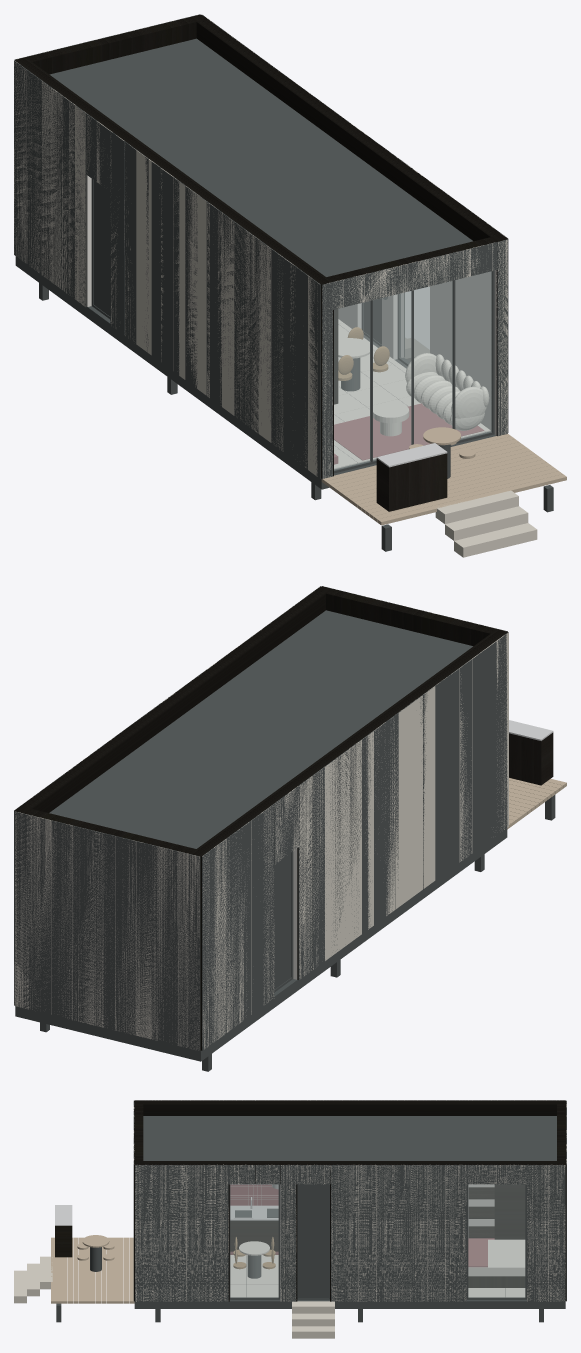
The model's file is solum-studio.glb.
3 renders of one model, top to bottom at view 1: azimuth 30°, elevation 25°; view 2: azimuth 150°, elevation 25°; view 3: azimuth 270°, elevation 25°, orthographic. The views are drawn at different scales.
Visible parts, largest first — view 1: roof|0600|Roof, glazing|0637|D01, parapet|0114|Raised seamless parapet, wall|0104|east, concrete-cladding|0584|Smooth facade panel, concrete-cladding|0577|Smooth facade panel, concrete-cladding|0586|Smooth facade panel, parapet|0433|Raised seamless parapet, base|0001|Floor, concrete-cladding|0585|Smooth facade panel, parapet|0250|Raised seamless parapet, concrete-cladding|0582|Smooth facade panel (+49 smaller); view 2: roof|0600|Roof, parapet|0114|Raised seamless parapet, concrete-cladding|0596|Smooth facade panel, base|0001|Floor, concrete-cladding|0585|Smooth facade panel, concrete-cladding|0599|Smooth facade panel, concrete-cladding|0583|Smooth facade panel, metal-cladding|0556|Smooth facade panel, metal-cladding|0550|Smooth facade panel, metal-cladding|0553|Smooth facade panel, metal-cladding|0552|Smooth facade panel, metal-cladding|0551|Smooth facade panel (+41 smaller); view 3: roof|0600|Roof, parapet|0250|Raised seamless parapet, glazing|0627|W01, glazing|0632|W02, door|0645|D02, base|0001|Floor, concrete-cladding|0565|Smooth facade panel, concrete-cladding|0573|Smooth facade panel, concrete-cladding|0563|Smooth facade panel, concrete-cladding|0574|Smooth facade panel, concrete-cladding|0559|Smooth facade panel, concrete-cladding|0564|Smooth facade panel (+66 smaller).
Part boxes in pixels (x1=…): roof|0600|Roof: x1=49, y1=38, x2=472, y2=276; glazing|0637|D01: x1=334, y1=271, x2=491, y2=470; parapet|0114|Raised seamless parapet: x1=191, y1=15, x2=506, y2=241; wall|0104|east: x1=430, y1=270, x2=496, y2=435; concrete-cladding|0584|Smooth facade panel: x1=179, y1=182, x2=206, y2=395; concrete-cladding|0577|Smooth facade panel: x1=41, y1=81, x2=68, y2=294; concrete-cladding|0586|Smooth facade panel: x1=234, y1=224, x2=261, y2=435; parapet|0433|Raised seamless parapet: x1=16, y1=15, x2=204, y2=74; base|0001|Floor: x1=15, y1=256, x2=496, y2=489; concrete-cladding|0585|Smooth facade panel: x1=207, y1=202, x2=234, y2=415; parapet|0250|Raised seamless parapet: x1=16, y1=57, x2=331, y2=283; concrete-cladding|0582|Smooth facade panel: x1=124, y1=144, x2=151, y2=355; roof|0600|Roof: x1=49, y1=610, x2=472, y2=848; parapet|0114|Raised seamless parapet: x1=15, y1=586, x2=331, y2=813; concrete-cladding|0596|Smooth facade panel: x1=152, y1=845, x2=199, y2=1050; base|0001|Floor: x1=15, y1=828, x2=507, y2=1061; concrete-cladding|0585|Smooth facade panel: x1=395, y1=695, x2=422, y2=909; concrete-cladding|0599|Smooth facade panel: x1=14, y1=812, x2=56, y2=1014; concrete-cladding|0583|Smooth facade panel: x1=340, y1=736, x2=367, y2=949; metal-cladding|0556|Smooth facade panel: x1=51, y1=820, x2=72, y2=1019; metal-cladding|0550|Smooth facade panel: x1=179, y1=851, x2=200, y2=1050; metal-cladding|0553|Smooth facade panel: x1=115, y1=836, x2=136, y2=1035; metal-cladding|0552|Smooth facade panel: x1=136, y1=841, x2=157, y2=1040; metal-cladding|0551|Smooth facade panel: x1=157, y1=846, x2=178, y2=1045; roof|0600|Roof: x1=143, y1=1116, x2=556, y2=1160; parapet|0250|Raised seamless parapet: x1=134, y1=1100, x2=565, y2=1115; glazing|0627|W01: x1=468, y1=1184, x2=524, y2=1297; glazing|0632|W02: x1=230, y1=1184, x2=278, y2=1297; door|0645|D02: x1=298, y1=1184, x2=328, y2=1297; base|0001|Floor: x1=134, y1=1256, x2=565, y2=1308; concrete-cladding|0565|Smooth facade panel: x1=333, y1=1165, x2=371, y2=1301; concrete-cladding|0573|Smooth facade panel: x1=178, y1=1165, x2=216, y2=1301; concrete-cladding|0563|Smooth facade panel: x1=410, y1=1165, x2=449, y2=1301; concrete-cladding|0574|Smooth facade panel: x1=139, y1=1165, x2=177, y2=1301; concrete-cladding|0559|Smooth facade panel: x1=527, y1=1165, x2=565, y2=1301; concrete-cladding|0564|Smooth facade panel: x1=372, y1=1165, x2=410, y2=1301.
Size of the model in its own units: 4.43 by 4.12 by 12.83.
17 materials, 3 textured.
